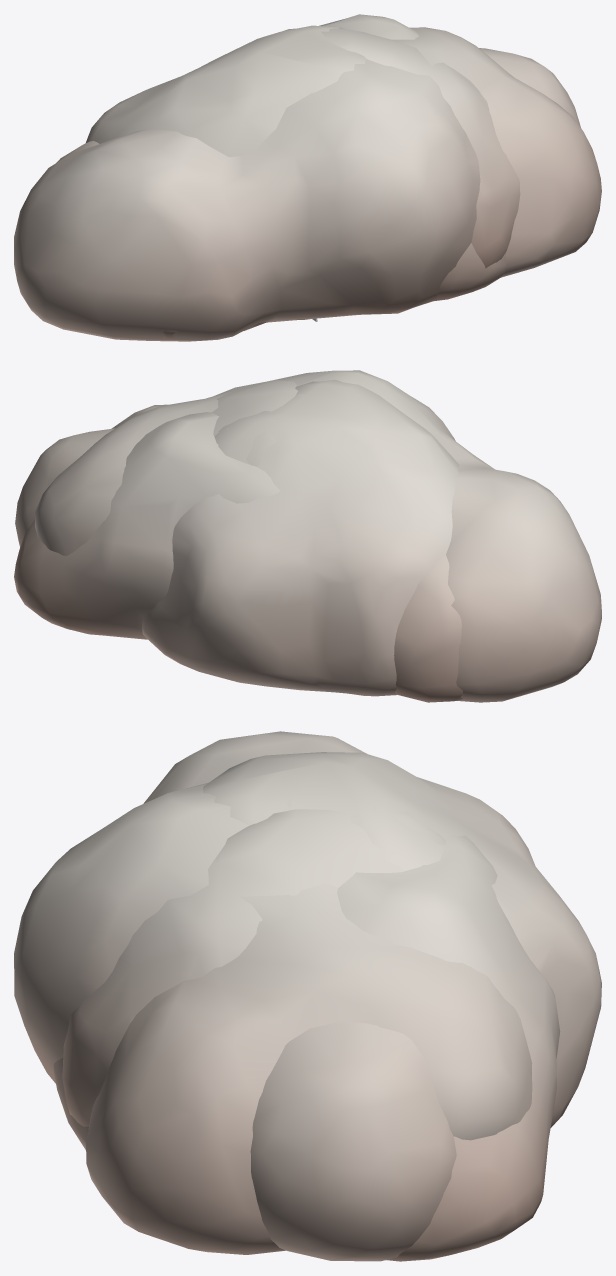
File: city.glb
The picture shows the model from 3 angles, top to bottom: view 1: azimuth 30°, elevation 25°; view 2: azimuth 150°, elevation 25°; view 3: azimuth 270°, elevation 25°; orthographic projection. The views are drawn at different scales.
Visible parts, largest first — view 1: cloud2, cloud0, cloud3, cloud1; view 2: cloud0, cloud2, cloud1, cloud3; view 3: cloud2, cloud3, cloud1, cloud0.
Boxes of the visible parts, <box> form: cloud2: <box>14,27,601,341</box>; cloud0: <box>86,25,507,319</box>; cloud3: <box>56,27,580,338</box>; cloud1: <box>319,14,418,39</box>; cloud0: <box>142,379,459,696</box>; cloud2: <box>35,370,601,702</box>; cloud1: <box>14,412,279,639</box>; cloud3: <box>15,380,462,702</box>; cloud2: <box>14,731,532,1254</box>; cloud3: <box>62,806,456,1261</box>; cloud1: <box>337,835,560,1261</box>; cloud0: <box>53,752,601,1149</box>.
Bounding box in the file's own units: 57.56 × 27.03 × 37.15.
